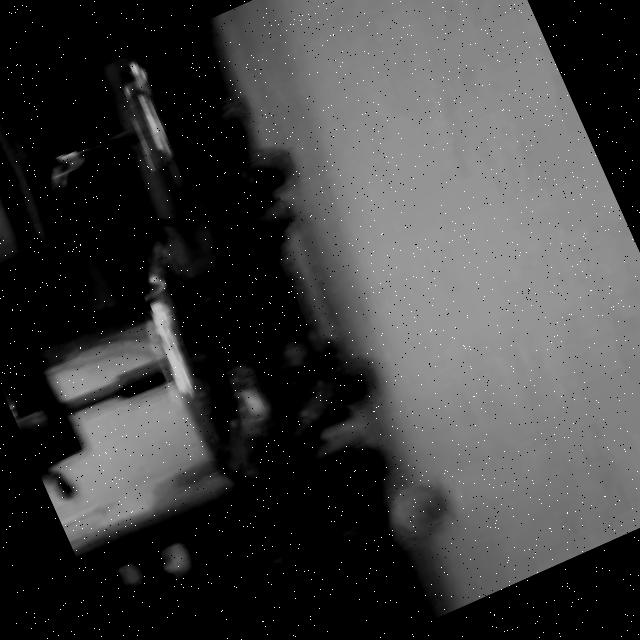ping-pong-ball: (368, 471, 454, 554)
